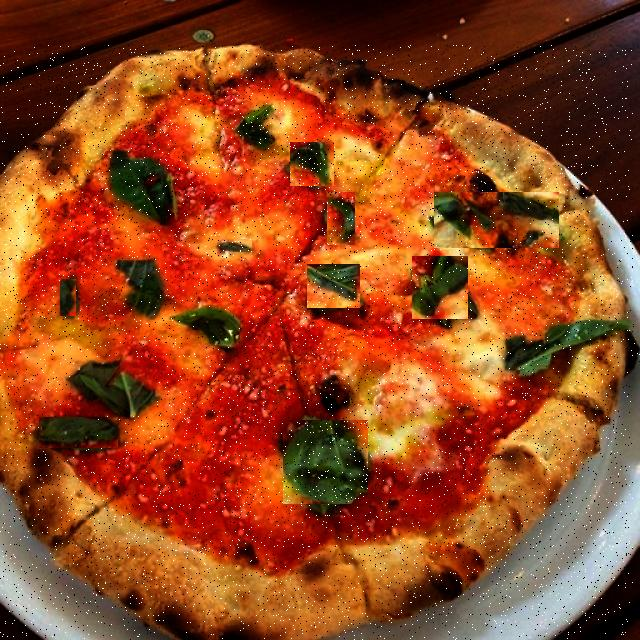Basil: (284, 420, 369, 504), (434, 192, 559, 248), (501, 315, 640, 365), (74, 358, 156, 416), (412, 256, 468, 319), (118, 158, 169, 216), (180, 303, 238, 347), (39, 417, 118, 448), (307, 264, 360, 308), (127, 259, 164, 315), (290, 142, 334, 186), (327, 192, 355, 245), (244, 114, 272, 151), (217, 239, 252, 258), (60, 280, 76, 318)
Pizza: (0, 45, 633, 640)
